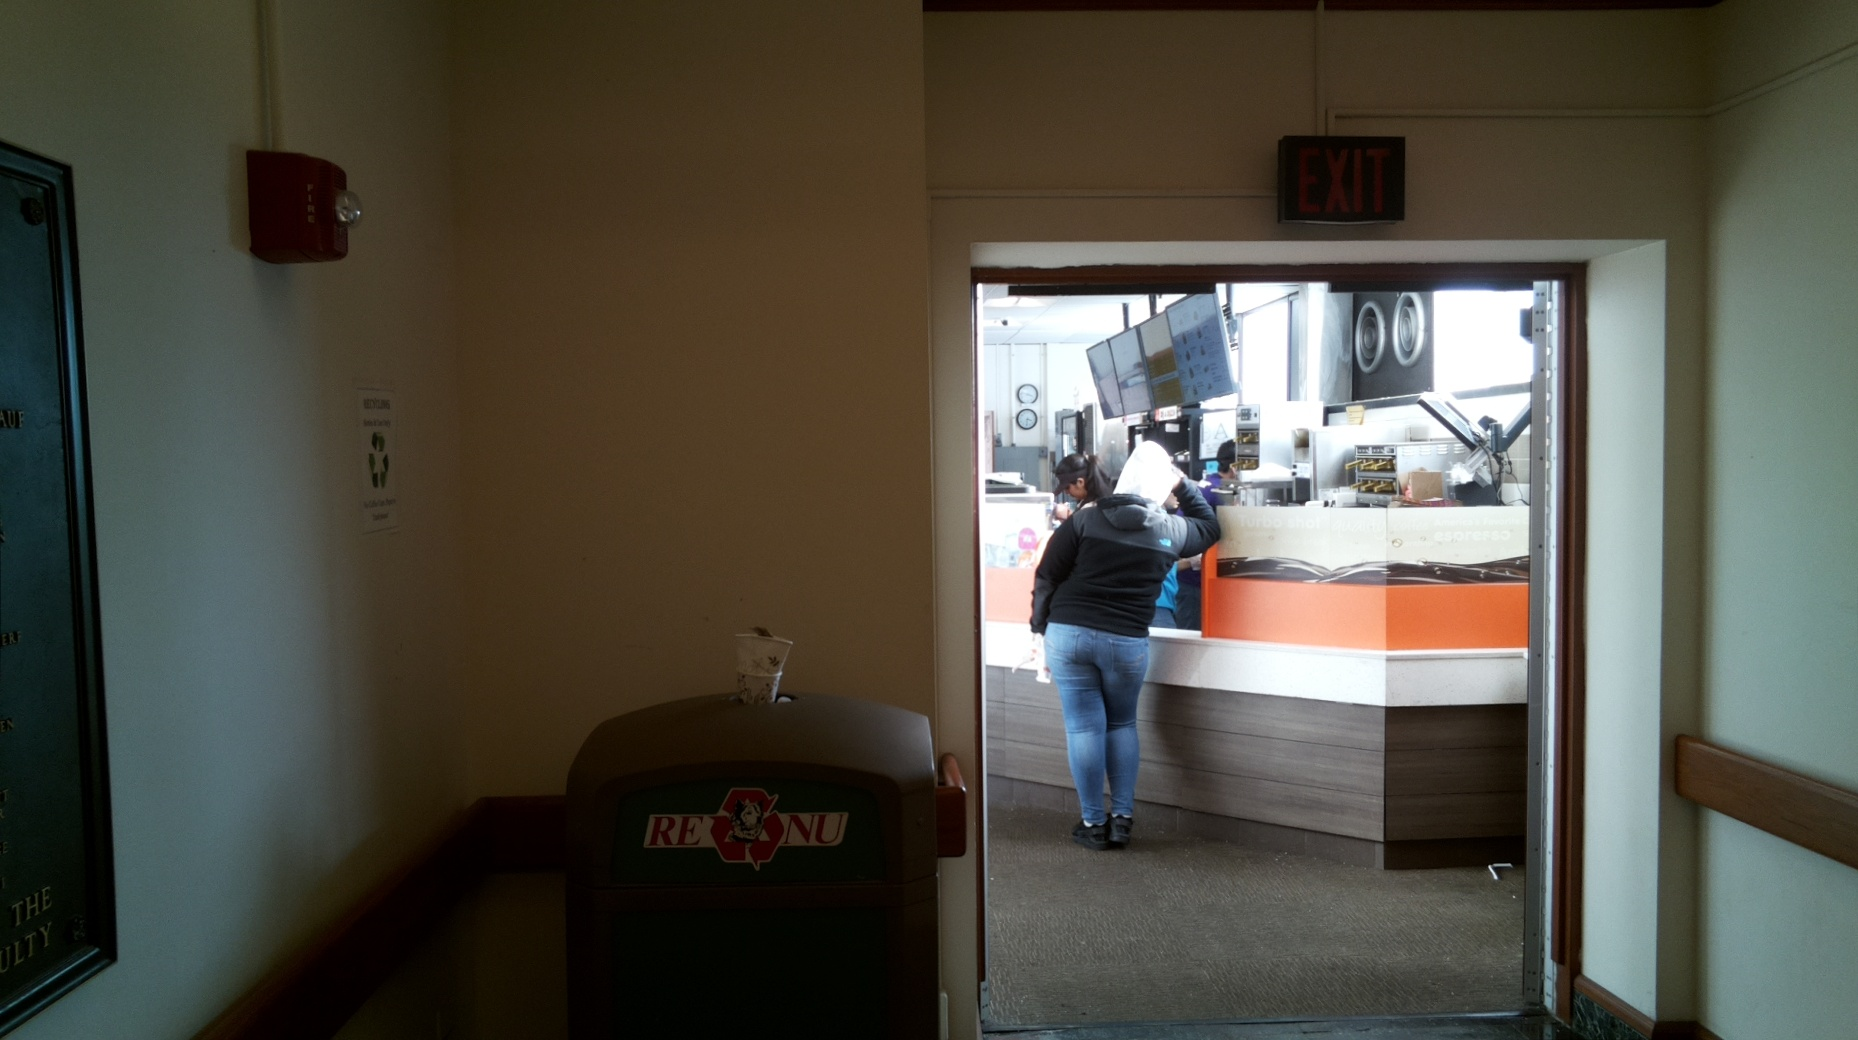exit sign: (1268, 130, 1410, 230)
